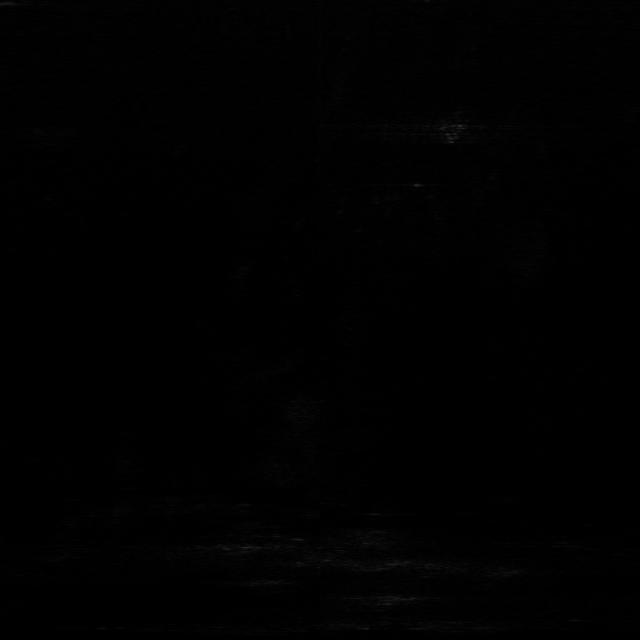rov: (441, 122, 468, 144)
